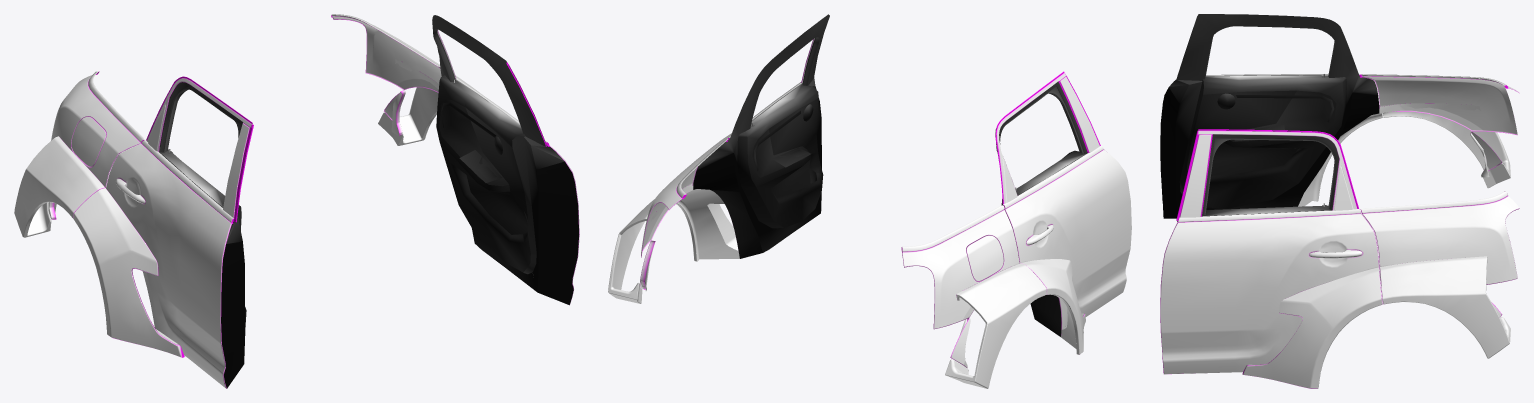
Rendered from Car_Mini_CountrymanJCW_2017_FendersR_SetC_AltE.fbx.
3 views of the same model, side by side, from view 1: azimuth 30°, elevation 25°; view 2: azimuth 150°, elevation 25°; view 3: azimuth 270°, elevation 25° (orthographic). The views are drawn at different scales.
Parts seen in each view (by area): view 1: FendersR 6; view 2: FendersR 6; view 3: FendersR 6.
Boxes of the visible parts, <box> form: FendersR 6: <box>14,14,579,388</box>; FendersR 6: <box>608,14,1131,388</box>; FendersR 6: <box>1160,14,1519,388</box>.
Bounding box in the file's own units: 2.07 × 1.14 × 1.66.
